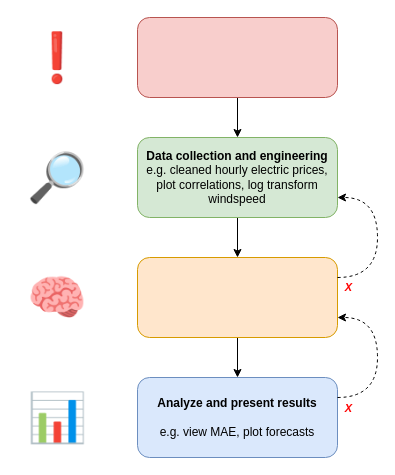
This 395x475 diagram has some shape labels left out. The shapes that lost their labels are listed below. From the top down, each one's box as (x1, y1, x2, y2) in pixels, then its label:
(136, 16, 338, 98): Problem definition e.g. predict electric price from generation data
(136, 256, 338, 338): Build and train model e.g. fit regression, or neural network
